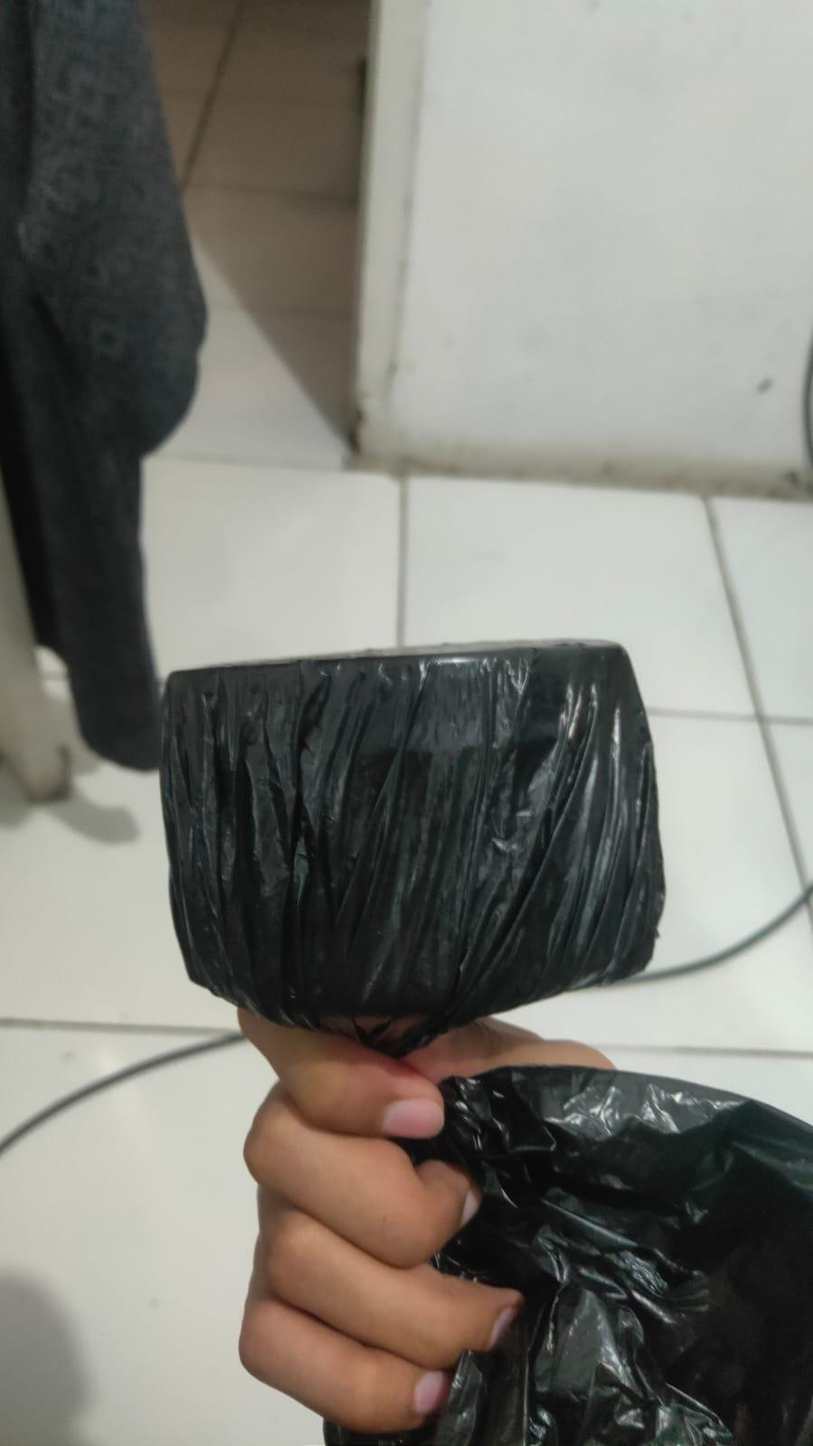undamaged: (146, 631, 692, 1036)
